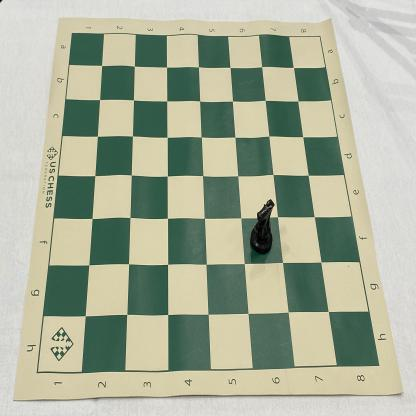black-knight: (249, 198, 274, 256)
